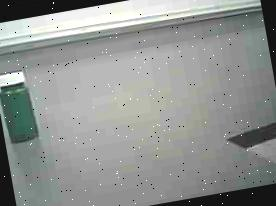Bottle C: (0, 62, 50, 150)
